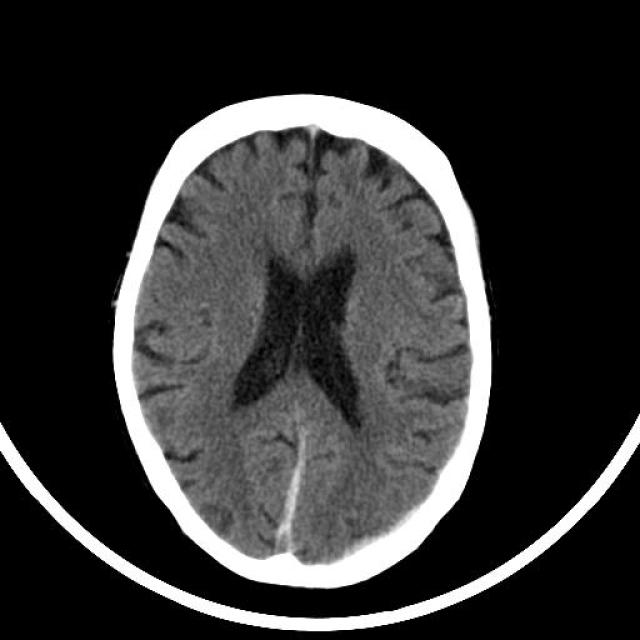Subdural: (234, 405, 332, 595)
